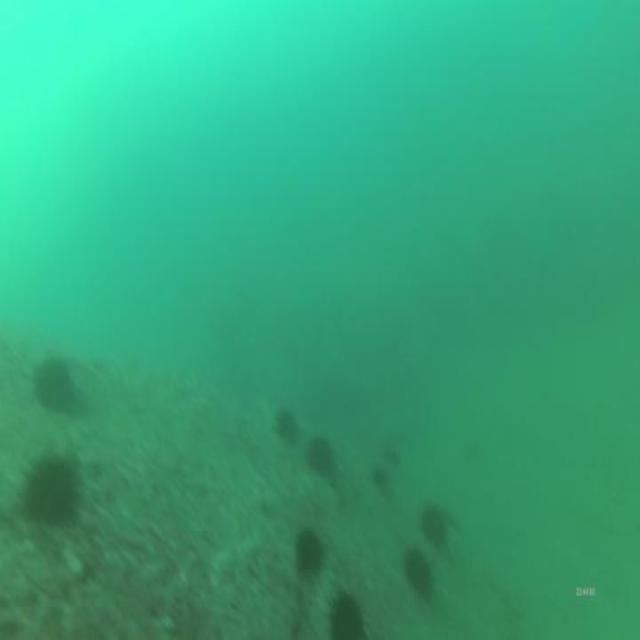echinus: (23, 449, 82, 534), (33, 356, 76, 417), (401, 542, 435, 602), (292, 524, 326, 582), (301, 432, 337, 484), (328, 592, 366, 640), (419, 502, 449, 552), (272, 403, 300, 449), (378, 436, 402, 479), (370, 462, 390, 499)
